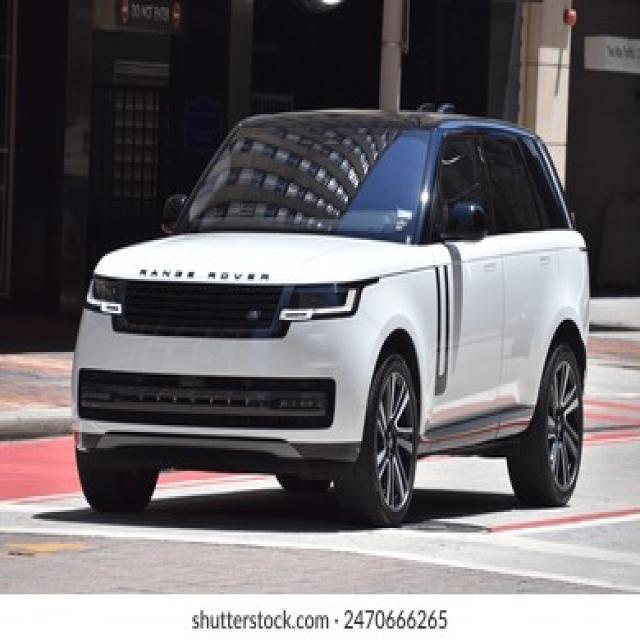rangerover: (136, 264, 277, 290)
